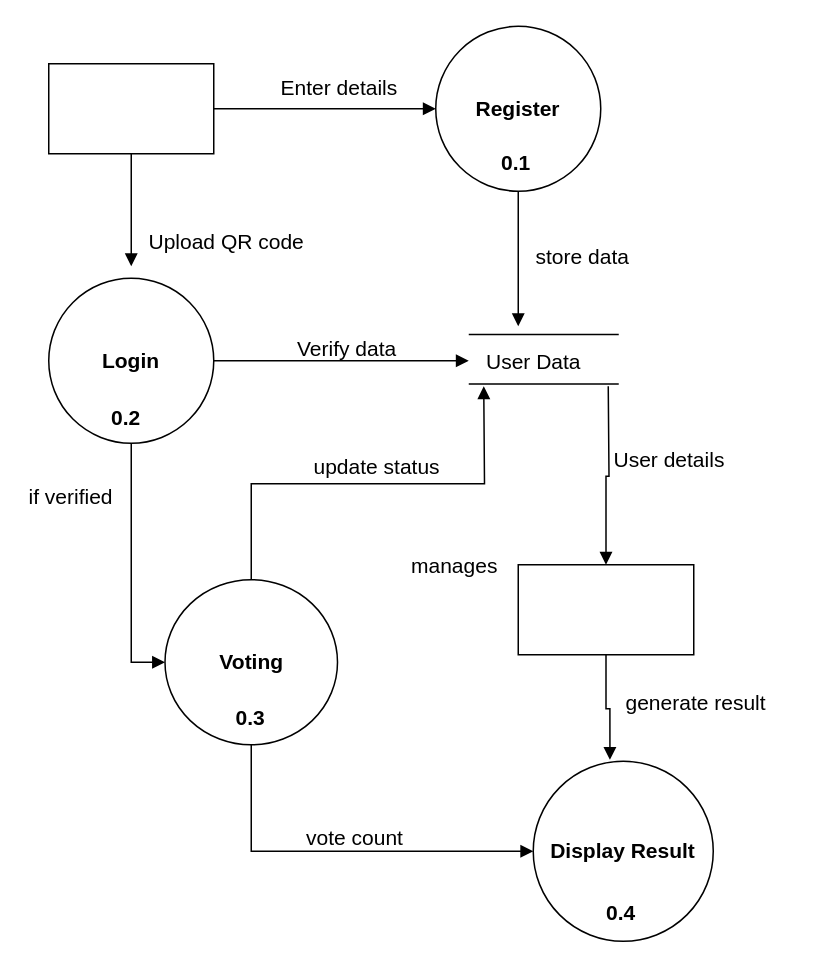
Some shapes in this 813 by 968 pixel diagram are drawn without their labels. The centre of each missing label's shape, as x and y in pixels:
Admin: point (605, 609)
User: point (130, 108)
